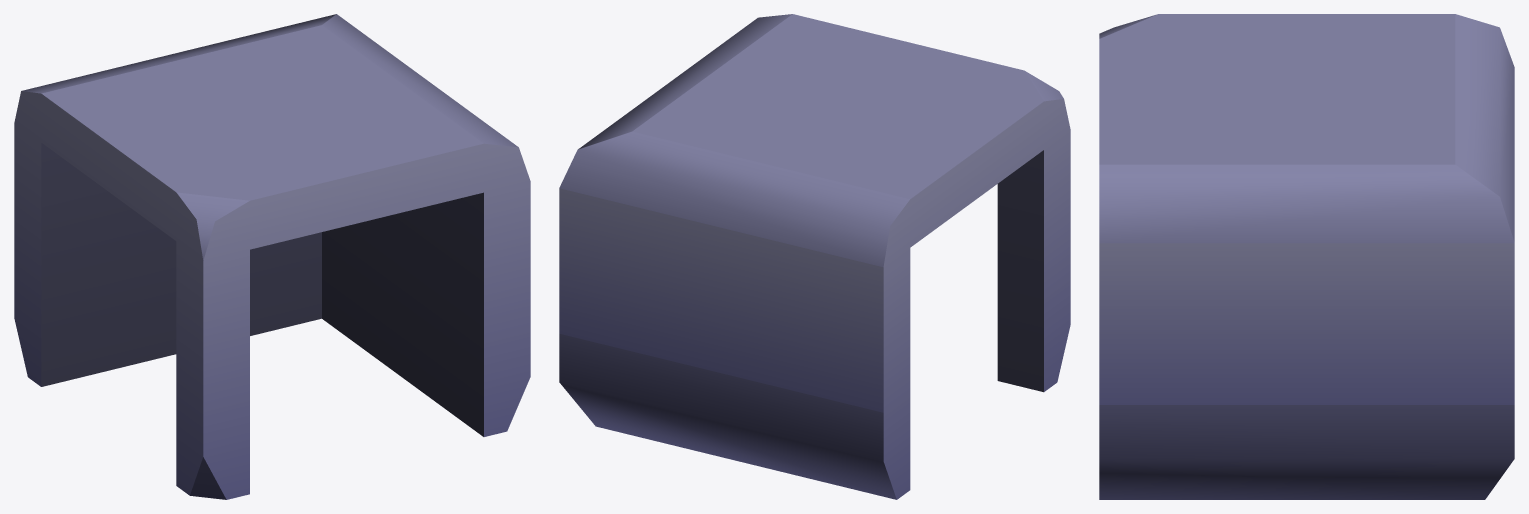
The model's file is cover-corner.glb.
3 renders of one model, left to right at view 1: azimuth 30°, elevation 25°; view 2: azimuth 150°, elevation 25°; view 3: azimuth 270°, elevation 25°, orthographic. The views are drawn at different scales.
Parts seen in each view (by area): view 1: cover-corner; view 2: cover-corner; view 3: cover-corner.
Boxes of the visible parts, bbox=[...] form: cover-corner: bbox=[14, 14, 530, 499]; cover-corner: bbox=[559, 14, 1070, 499]; cover-corner: bbox=[1099, 14, 1514, 499].
Bounding box in the file's own units: 1.4 × 1.2 × 1.4.
